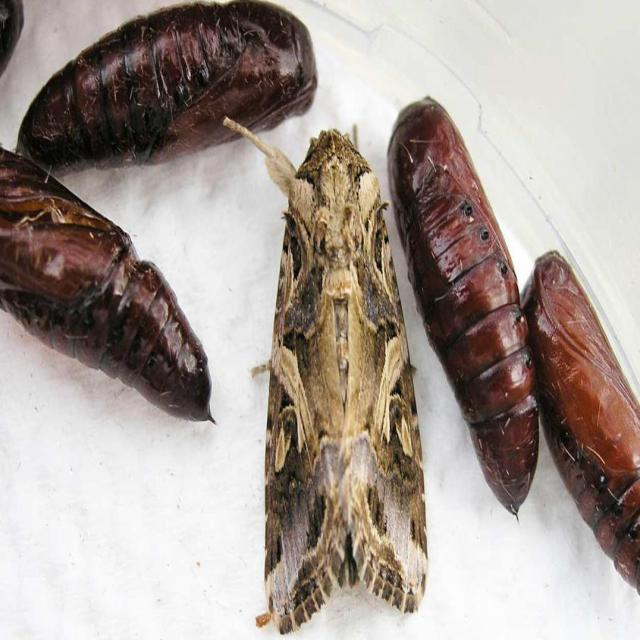BeetArmyWorm-Adult-: (220, 112, 438, 637)
